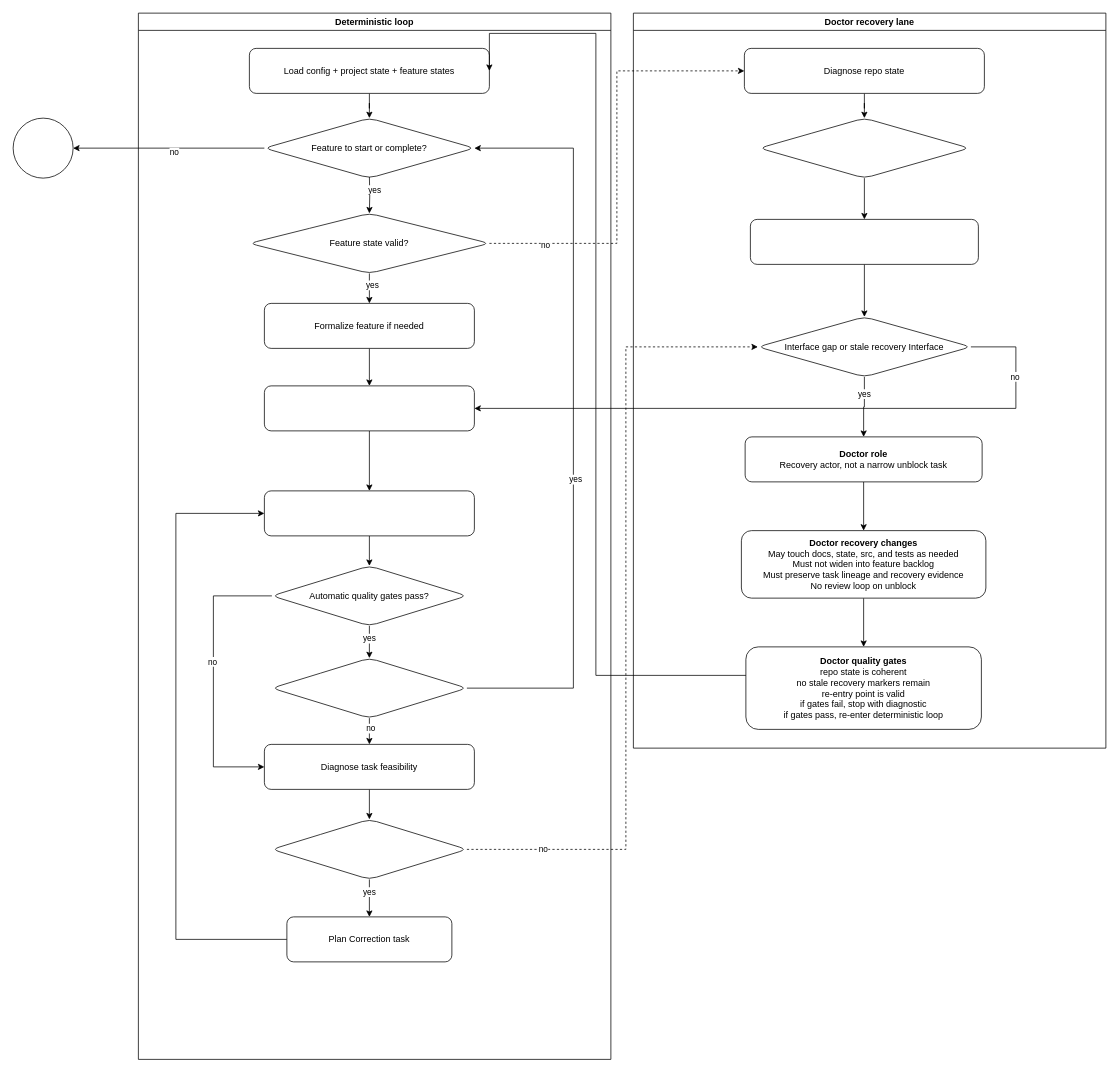
Image size: 1119x1073. Some labels were removed from this diagram. The centre of each missing label's shape, as x and y in pixels:
"Apply state correction" belongs at pixel 864 241.
"Docs/state malformed" belongs at pixel 864 147.
"Exit" belongs at pixel 42 147.
"Implement task" belongs at pixel 369 513.
"Plan next task" belongs at pixel 369 408.
"Review accepted?" belongs at pixel 369 687.
"Task feasible?" belongs at pixel 369 849.
